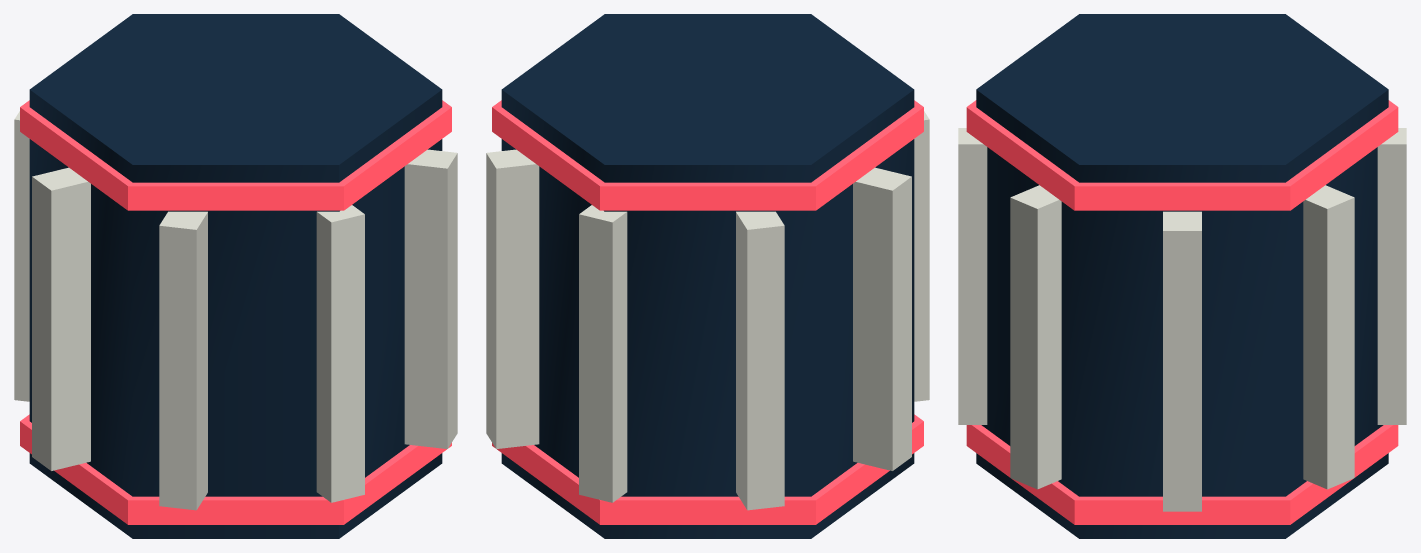
The model's file is hazard-drum.glb.
The picture shows the model from 3 angles, left to right: view 1: azimuth 30°, elevation 25°; view 2: azimuth 150°, elevation 25°; view 3: azimuth 270°, elevation 25°; orthographic projection.
Visible parts, largest first — view 1: drum_core, porcelain_static, hazard_static; view 2: drum_core, porcelain_static, hazard_static; view 3: drum_core, porcelain_static, hazard_static.
Boxes of the visible parts, x1,y1,x2,y2 form: drum_core: (29,14,442,538); porcelain_static: (14,111,457,510); hazard_static: (20,100,451,524); drum_core: (501,14,914,538); porcelain_static: (486,111,929,510); hazard_static: (492,100,923,524); drum_core: (976,14,1388,538); porcelain_static: (958,128,1406,511); hazard_static: (966,100,1398,524).
Bounding box in the file's own units: 1392 × 1280 × 1392.
